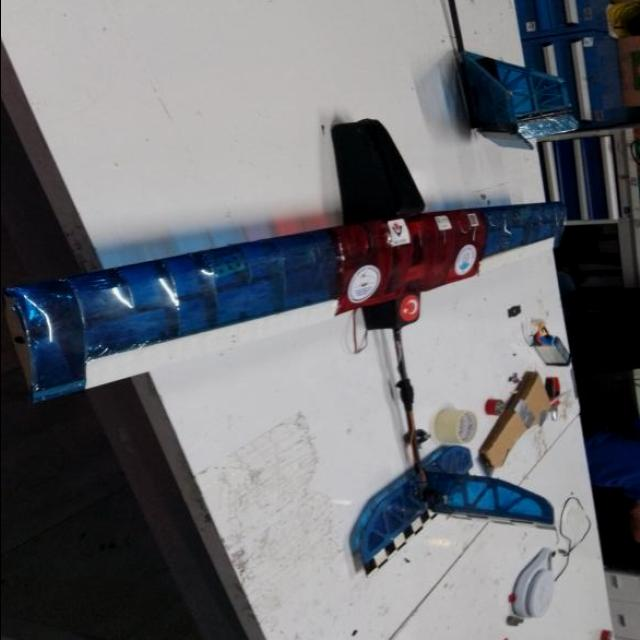plane: (0, 116, 571, 582)
